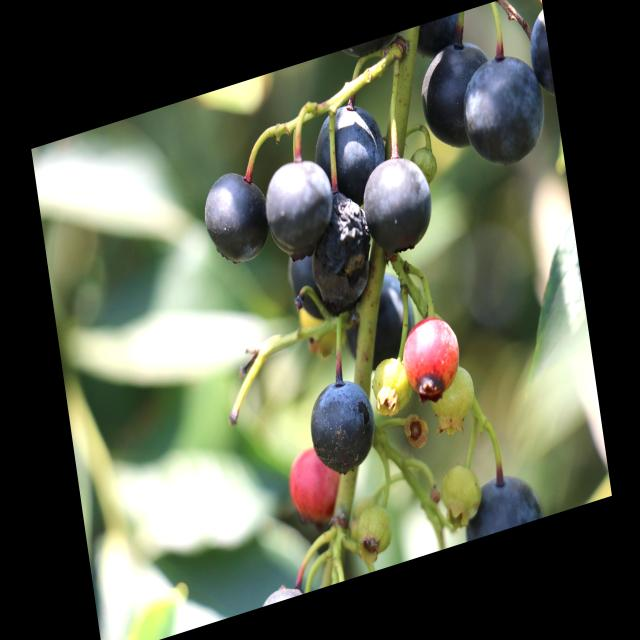blueberry: (451, 40, 554, 186), (298, 85, 398, 227), (324, 252, 429, 386), (409, 26, 505, 166), (256, 142, 347, 276), (352, 142, 444, 270), (299, 362, 388, 488), (194, 156, 278, 282), (301, 171, 380, 299), (450, 456, 551, 544), (305, 228, 385, 322), (280, 241, 334, 331), (517, 1, 557, 114), (405, 10, 473, 71)
blueberry-halfripe: (397, 308, 466, 408), (286, 445, 342, 526)
blueberry-unripe: (425, 358, 482, 432), (433, 458, 487, 534), (370, 350, 414, 423), (353, 497, 396, 560)
